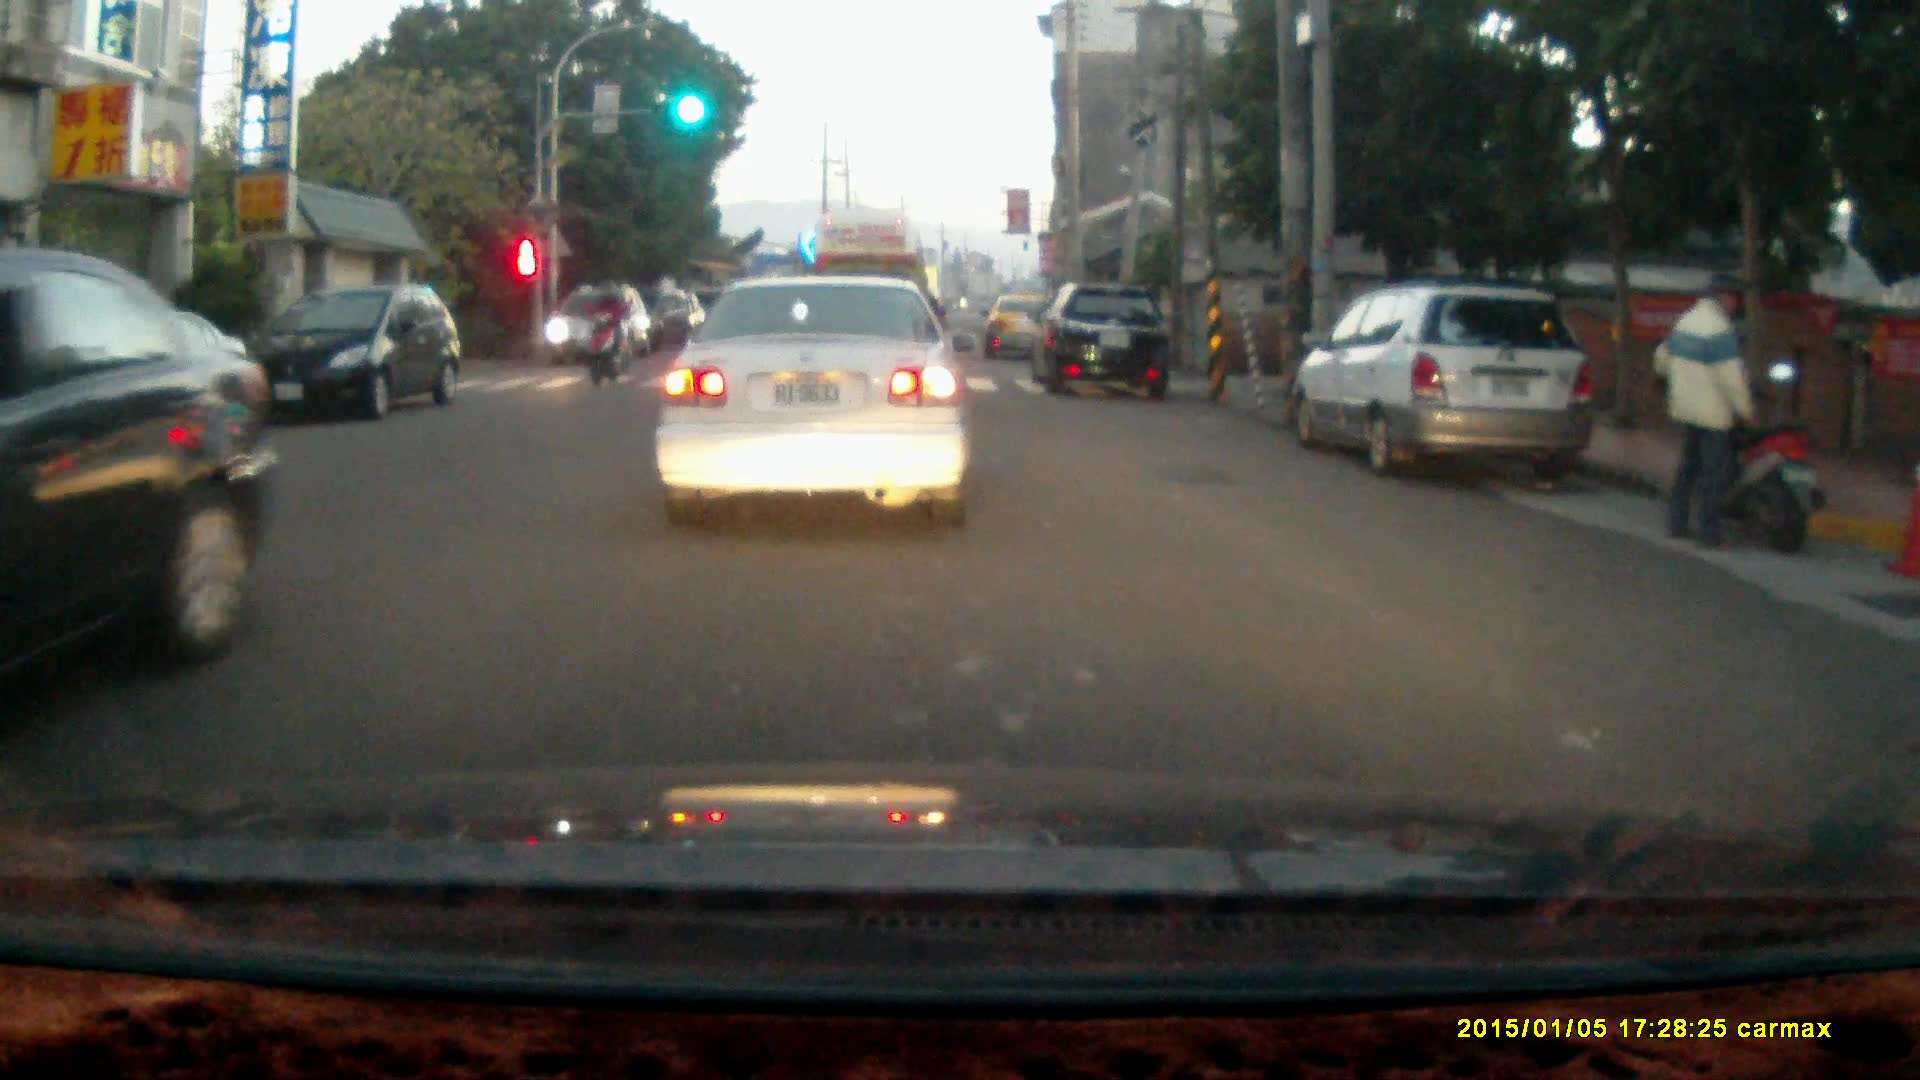pedestrian: (1650, 268, 1753, 551)
rider: (582, 276, 623, 382)
vehicle: (1, 247, 292, 686), (654, 272, 975, 525), (1303, 283, 1593, 480), (228, 285, 463, 419), (813, 204, 930, 366), (1031, 278, 1178, 395), (547, 282, 653, 358), (977, 294, 1070, 364)
